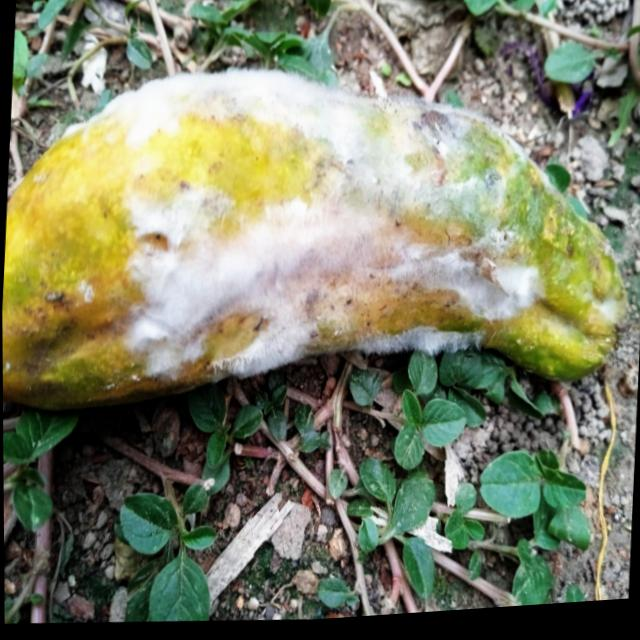Pythium-Fruit-Rot: (49, 41, 564, 421)
